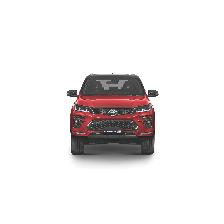NON-EV: (67, 73, 162, 162)
